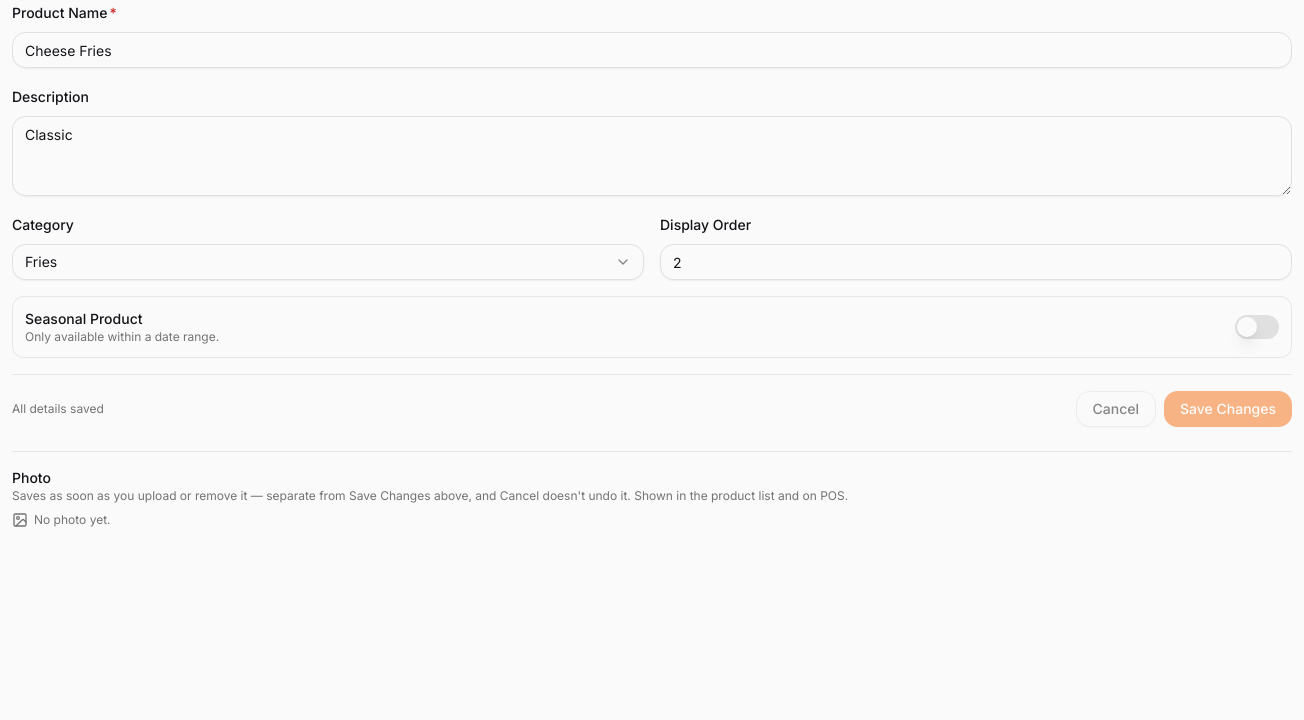
Test: ProductDetailsForm (POS-PERF-P39) › does not report its own save as a change elsewhere while the refetch is still on its way
This screenshot has width=1304, height=720.
Type "Cheese Fries XL" into the field labelled "Product Name*" at (652, 50), box x1=12 y1=32 x2=1292 y2=68
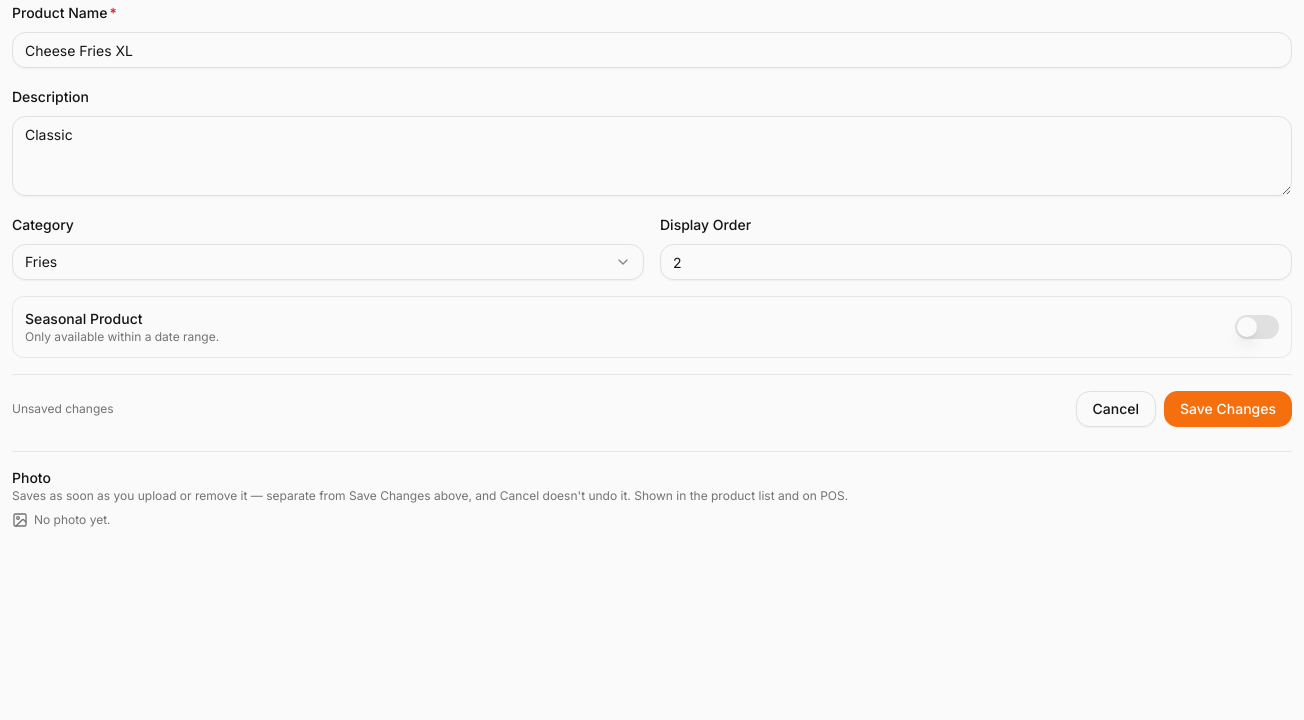
Click the button "Save Changes" at (1228, 409), box x1=1164 y1=391 x2=1292 y2=427
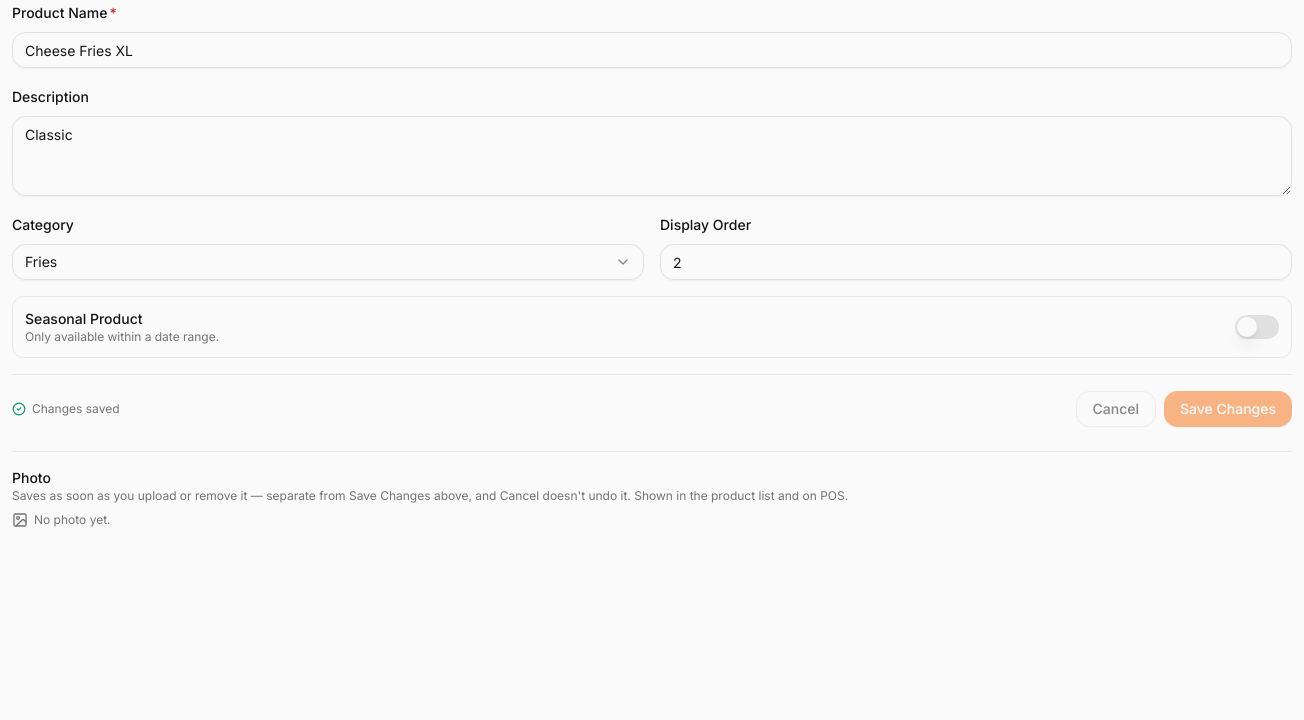
Expected: the text "Changes saved" is shown, x1=12 y1=401 x2=120 y2=417
Replace the text in the field labelled "Product Name*" with "Cheese Fries XXL" at (652, 50), box x1=12 y1=32 x2=1292 y2=68
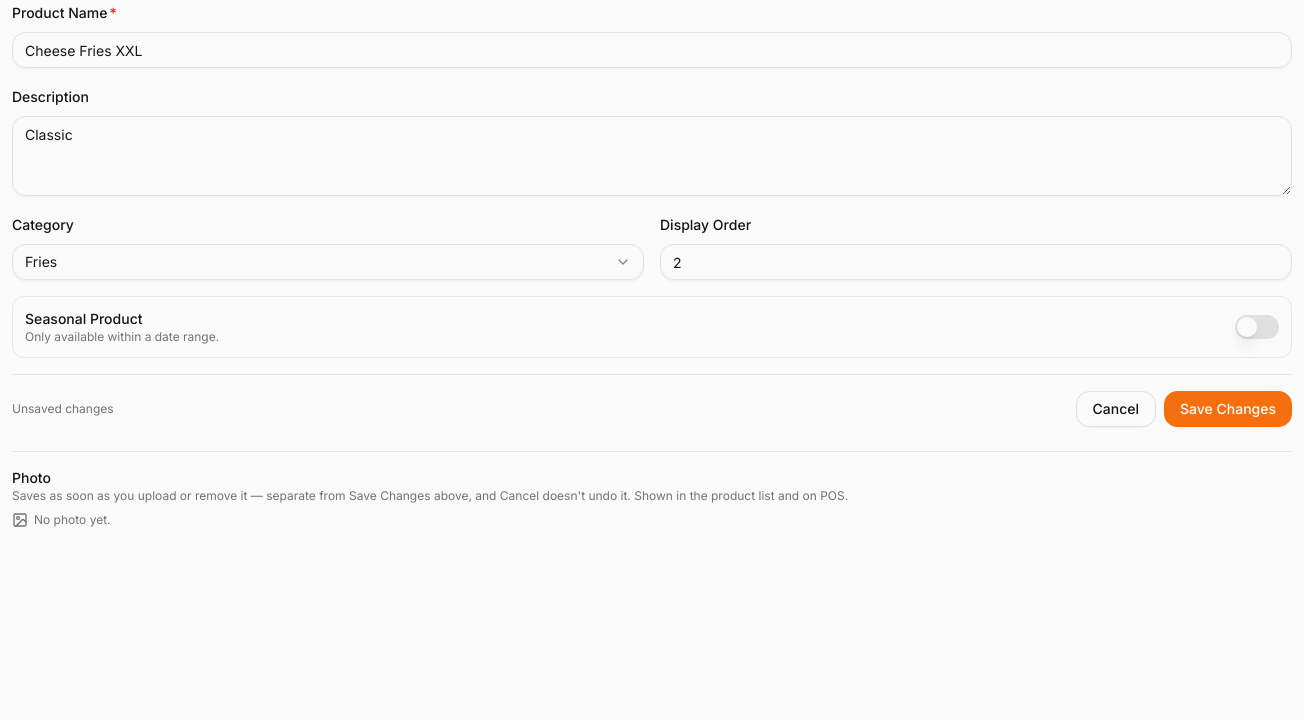
Expected: the text "Unsaved changes" is shown, x1=12 y1=401 x2=114 y2=417
